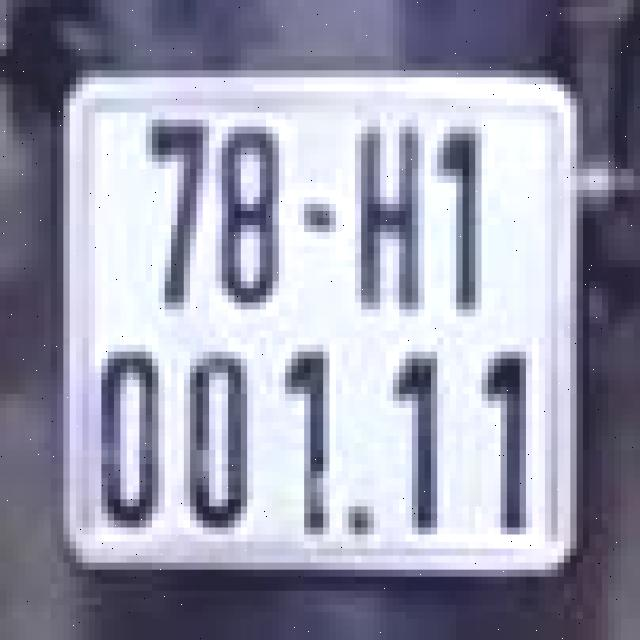0: (82, 338, 171, 542), (184, 348, 266, 531)
1: (415, 109, 497, 320), (472, 338, 555, 542), (383, 348, 466, 545), (276, 338, 345, 548)
7: (130, 116, 212, 320)
8: (212, 116, 288, 320)
H: (345, 120, 434, 330)
